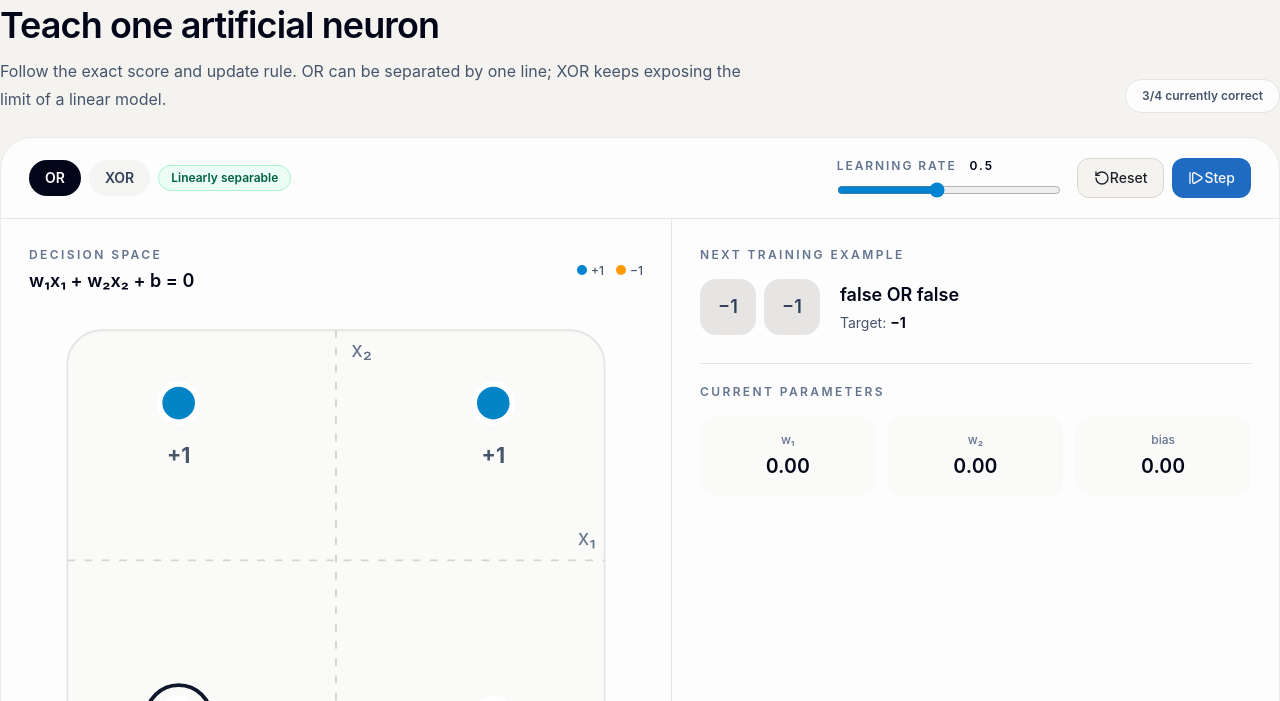
Test: PerceptronLabPage › steps through an update and resets the selected dataset
Expected: the text with test id "perceptron-current-label" reads "false OR false", [840,284,959,305]
Click the button with test id "perceptron-step" at point(1212, 178), box [1172,158,1251,198]
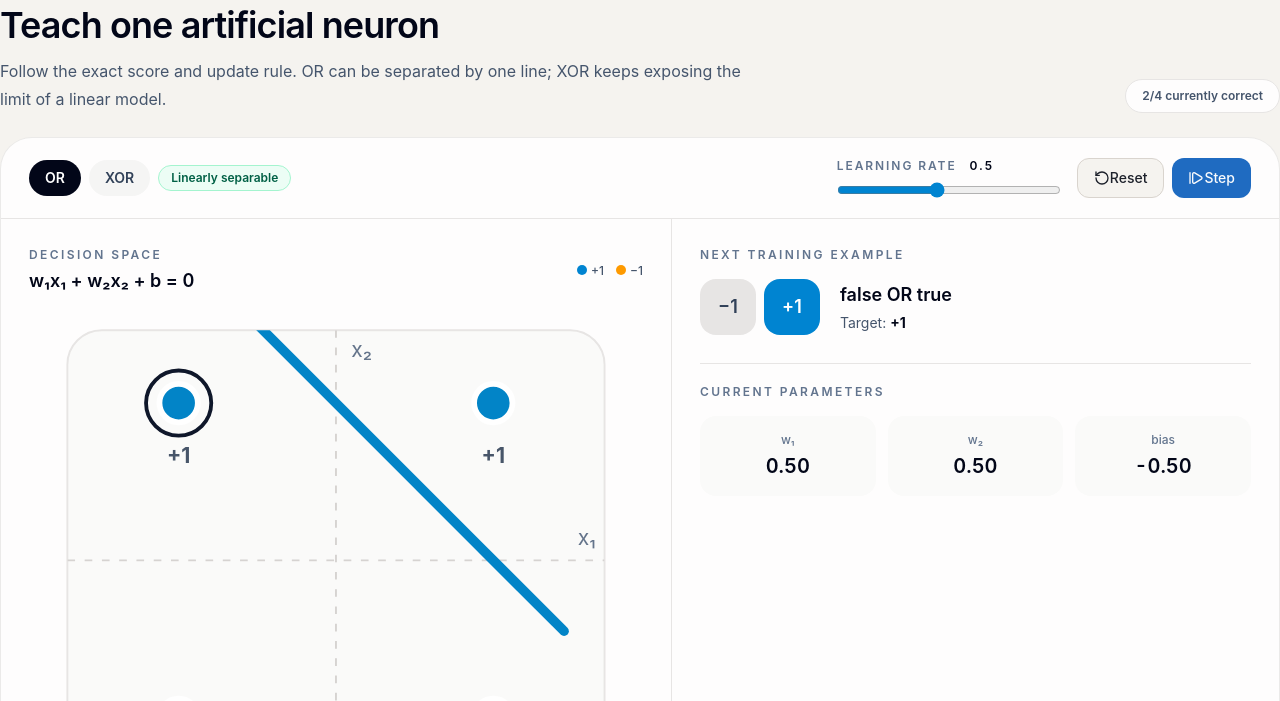
Result: the text with test id "perceptron-current-label" reads "false OR true" at [840,284,952,305]
Click the button with test id "perceptron-dataset-xor" at point(120, 178), box [89,160,150,196]
(page scrolled)
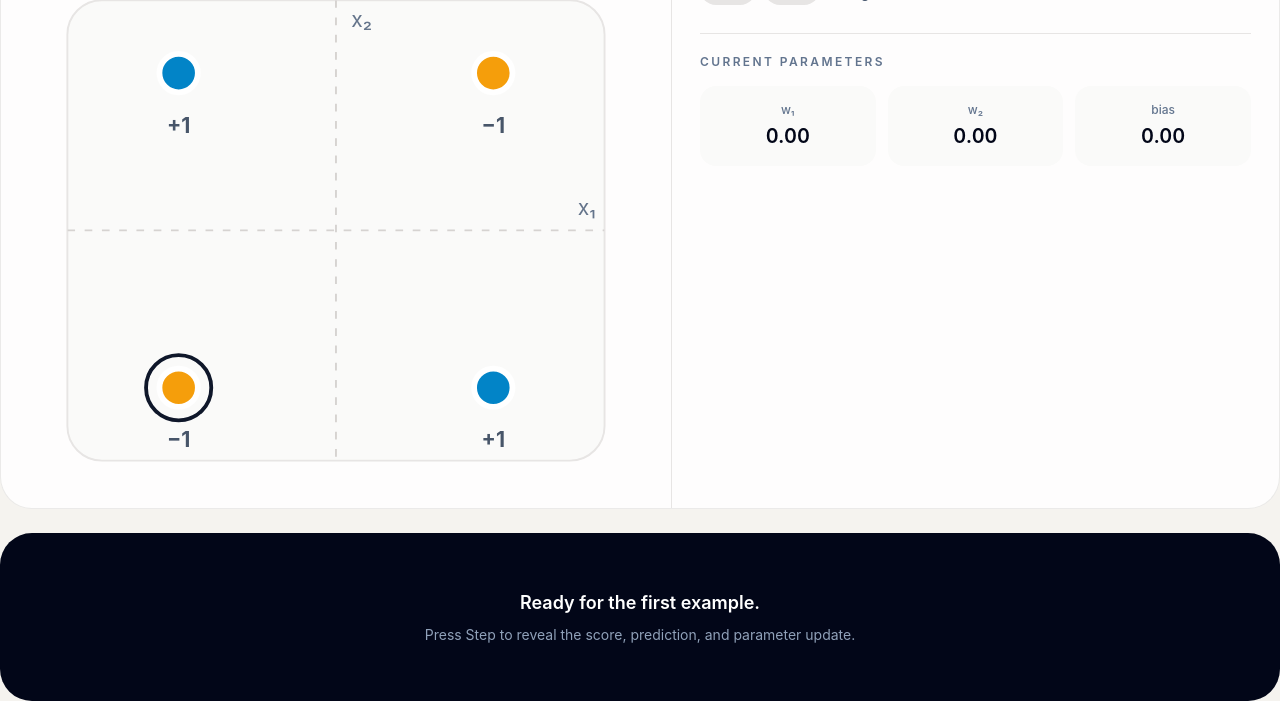
Result: the element with test id "perceptron-step-trace" shows "Ready for the first example" at [520,592,760,613]
